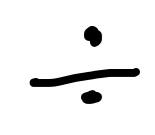div: (26, 26, 138, 105)
